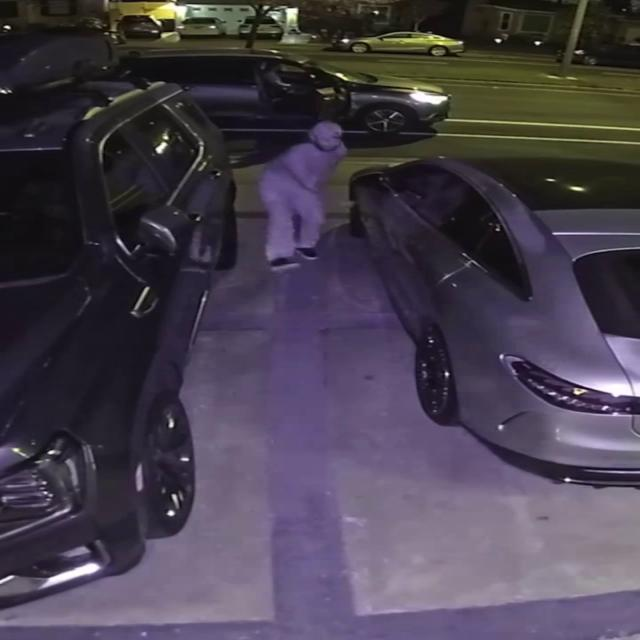Theft - Alert: (266, 108, 346, 257), (255, 58, 334, 122), (453, 184, 491, 239)
